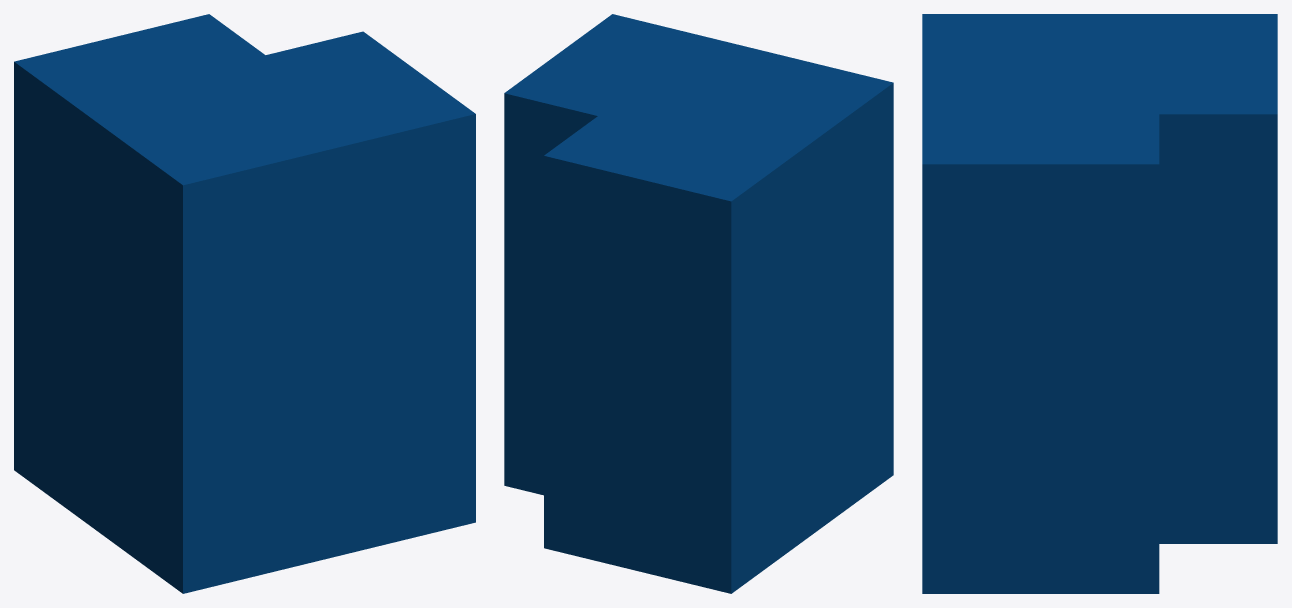
Rendered from corner.glb.
The picture shows the model from 3 angles, left to right: view 1: azimuth 30°, elevation 25°; view 2: azimuth 150°, elevation 25°; view 3: azimuth 270°, elevation 25°; orthographic projection. The views are drawn at different scales.
Parts seen in each view (by area): view 1: Corner; view 2: Corner; view 3: Corner.
Boxes of the visible parts, x1,y1,x2,y2 form: Corner: (14,14,475,593); Corner: (504,14,893,593); Corner: (922,14,1277,593).
Bounding box in the file's own units: 1.5 × 2 × 1.5.
